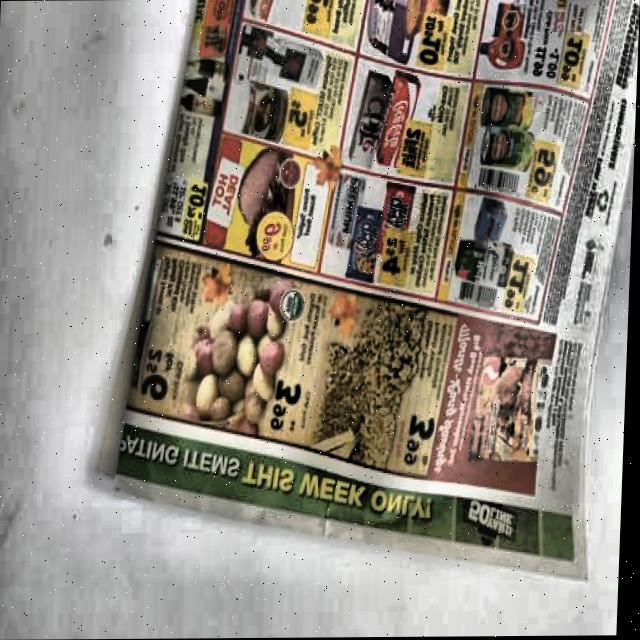paper: (106, 0, 640, 586)
